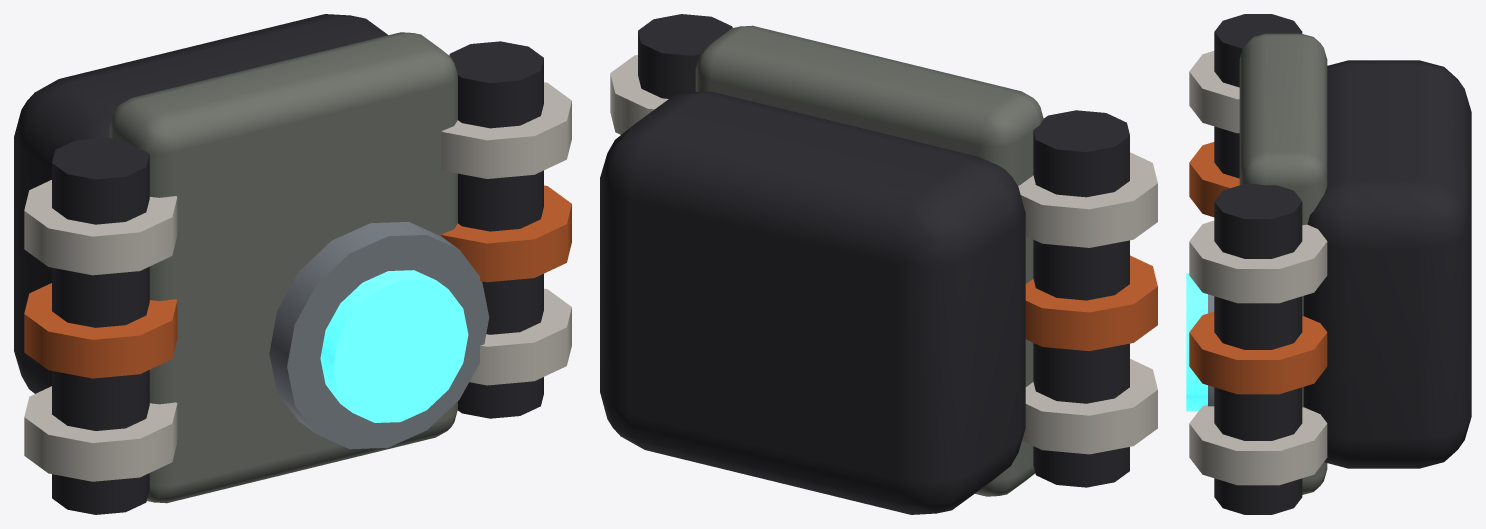
File: co_arc.glb
3 views of the same model, side by side, from view 1: azimuth 30°, elevation 25°; view 2: azimuth 150°, elevation 25°; view 3: azimuth 270°, elevation 25° (orthographic). The views are drawn at different scales.
Visible parts, largest first — view 1: co_arc; view 2: co_arc; view 3: co_arc.
Part boxes in pixels (x1,y1,x2,y2): co_arc: [14, 14, 571, 514]; co_arc: [600, 14, 1157, 514]; co_arc: [1186, 14, 1471, 514].
Size of the model in its own units: 0.1826 by 0.129 by 0.0978.
